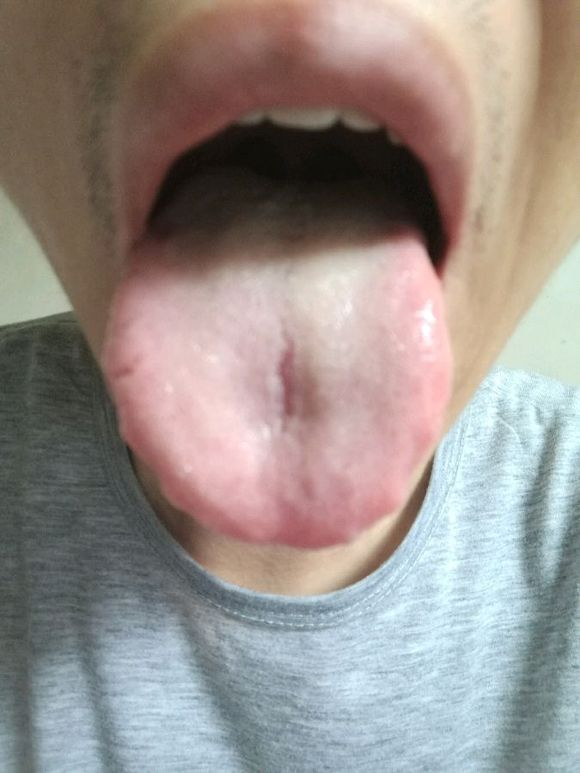chihenshe: (106, 373, 182, 515)
huangtaishe: (106, 146, 454, 550)
liewenshe: (266, 331, 296, 436)
